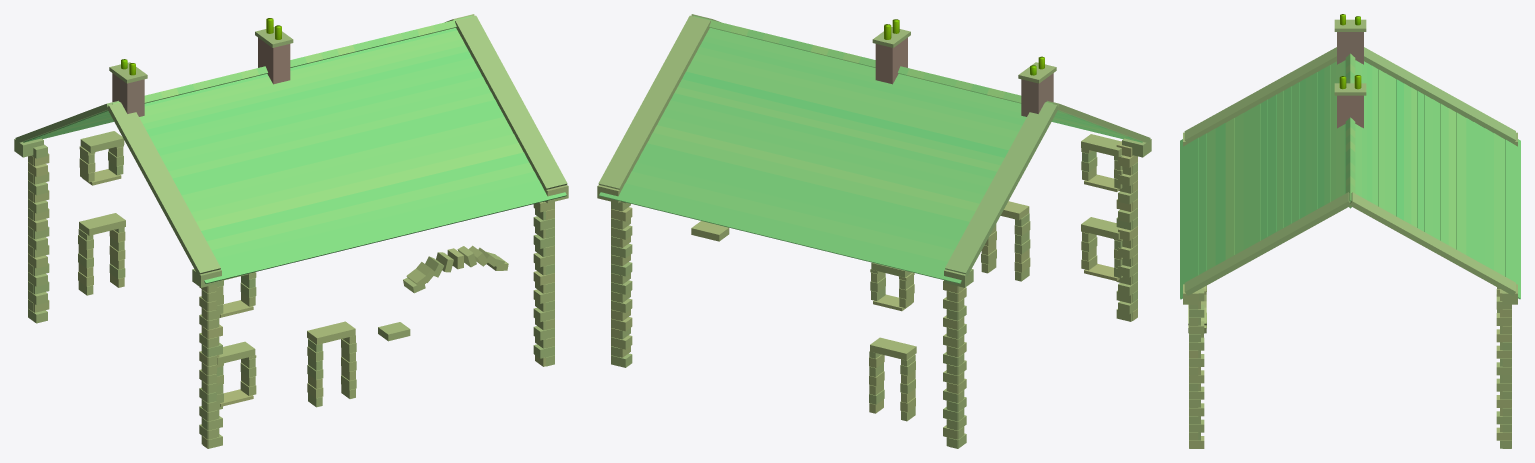
File: SM_Bld_193_Stone.glb
3 renders of one model, left to right at view 1: azimuth 30°, elevation 25°; view 2: azimuth 150°, elevation 25°; view 3: azimuth 270°, elevation 25°, orthographic. The views are drawn at different scales.
Visible parts, largest first — view 1: SM_Bld_193_Stone; view 2: SM_Bld_193_Stone; view 3: SM_Bld_193_Stone.
Boxes of the visible parts, box(x1,y1,x2,y2) form: SM_Bld_193_Stone: box(14, 14, 568, 448); SM_Bld_193_Stone: box(597, 14, 1151, 448); SM_Bld_193_Stone: box(1180, 14, 1520, 448).
Size of the model in its own units: 12.61 by 10.57 by 11.29.
